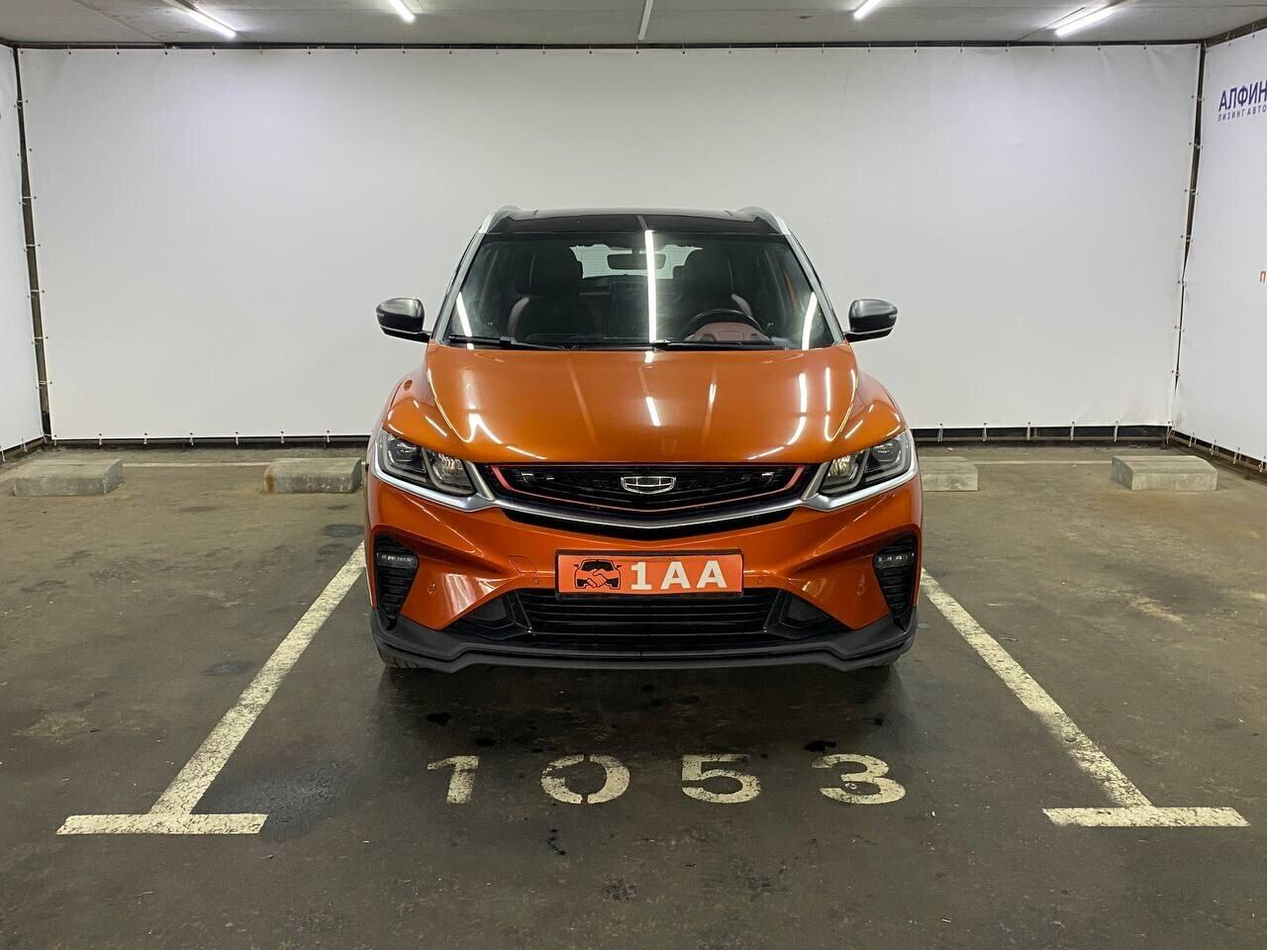Coolray_2019-2023: (351, 195, 924, 708)
